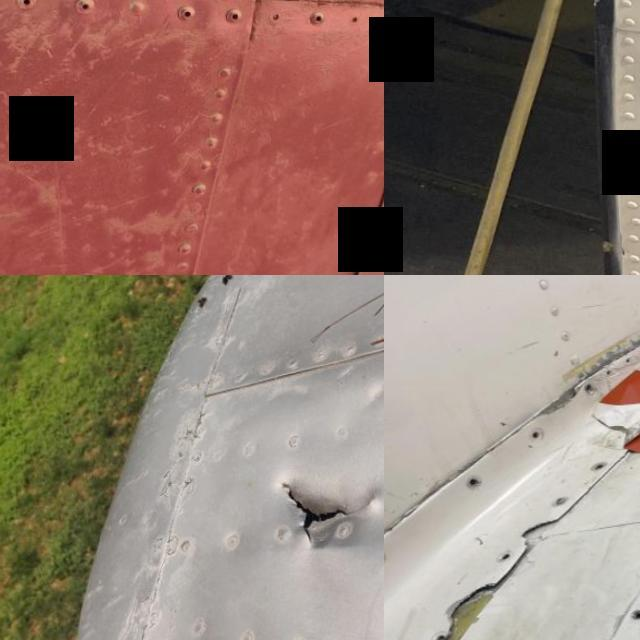Crack: (265, 472, 384, 556), (415, 577, 503, 640), (532, 381, 588, 423), (508, 518, 563, 546)
Missing_Fastener: (462, 476, 480, 490), (584, 461, 604, 472), (623, 609, 640, 621), (526, 430, 542, 442), (495, 550, 510, 562)
